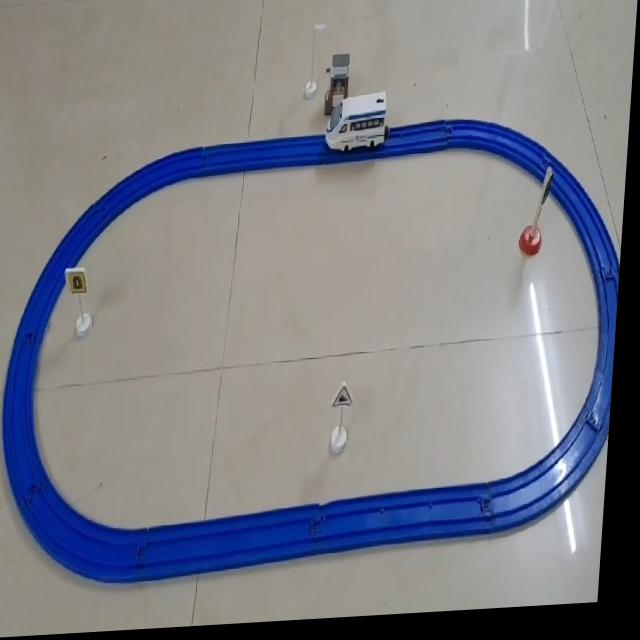bus: (325, 94, 393, 158)
